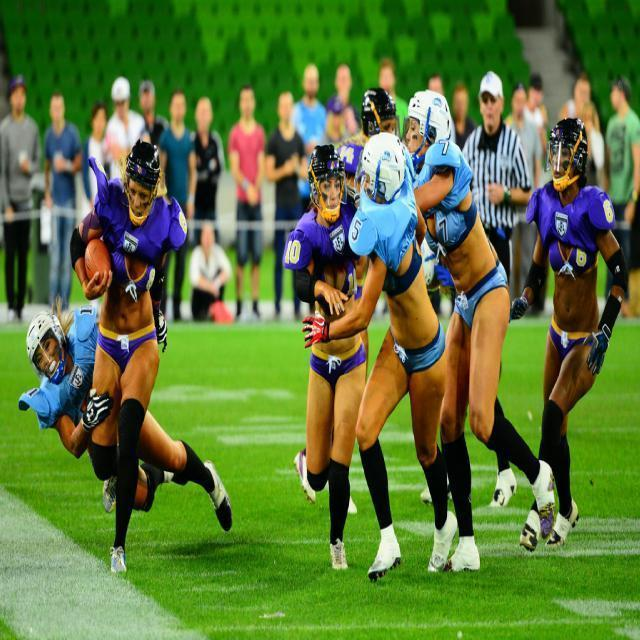ball: (83, 235, 112, 283)
